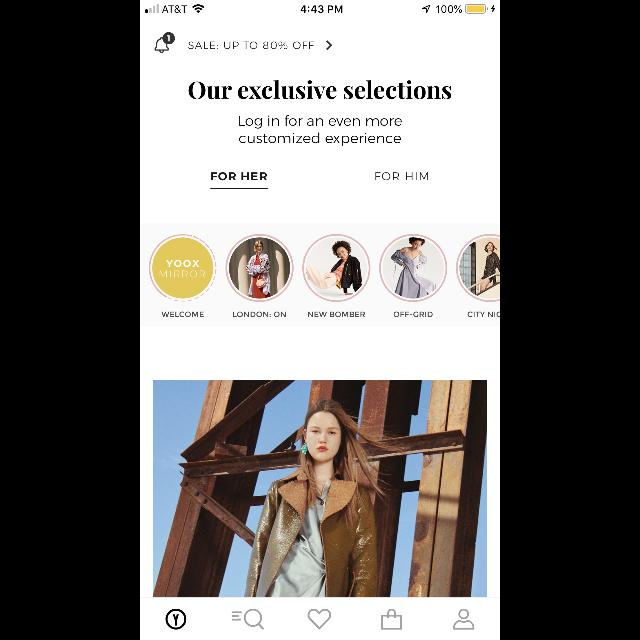icon: (232, 608, 264, 630), (308, 608, 332, 630), (155, 32, 175, 54), (382, 608, 402, 630), (454, 608, 474, 630), (326, 41, 332, 51)
image: (154, 380, 486, 598), (149, 234, 217, 302), (226, 234, 294, 302), (303, 234, 371, 302), (379, 234, 447, 302), (456, 234, 500, 302), (166, 608, 187, 630)
text: (188, 80, 452, 100), (238, 115, 402, 146), (188, 41, 314, 49), (212, 173, 266, 181), (376, 172, 428, 180), (308, 312, 366, 318), (234, 311, 286, 317), (162, 311, 204, 317), (393, 311, 432, 317), (468, 311, 500, 317)
uppertaskbar: (140, 0, 500, 14)
